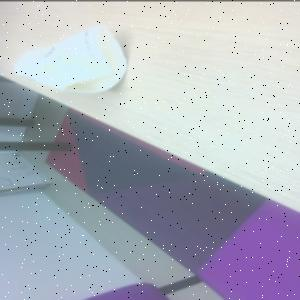Cup: (13, 25, 131, 93)
